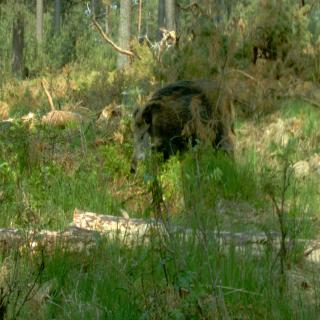Pig: (121, 70, 235, 185)
